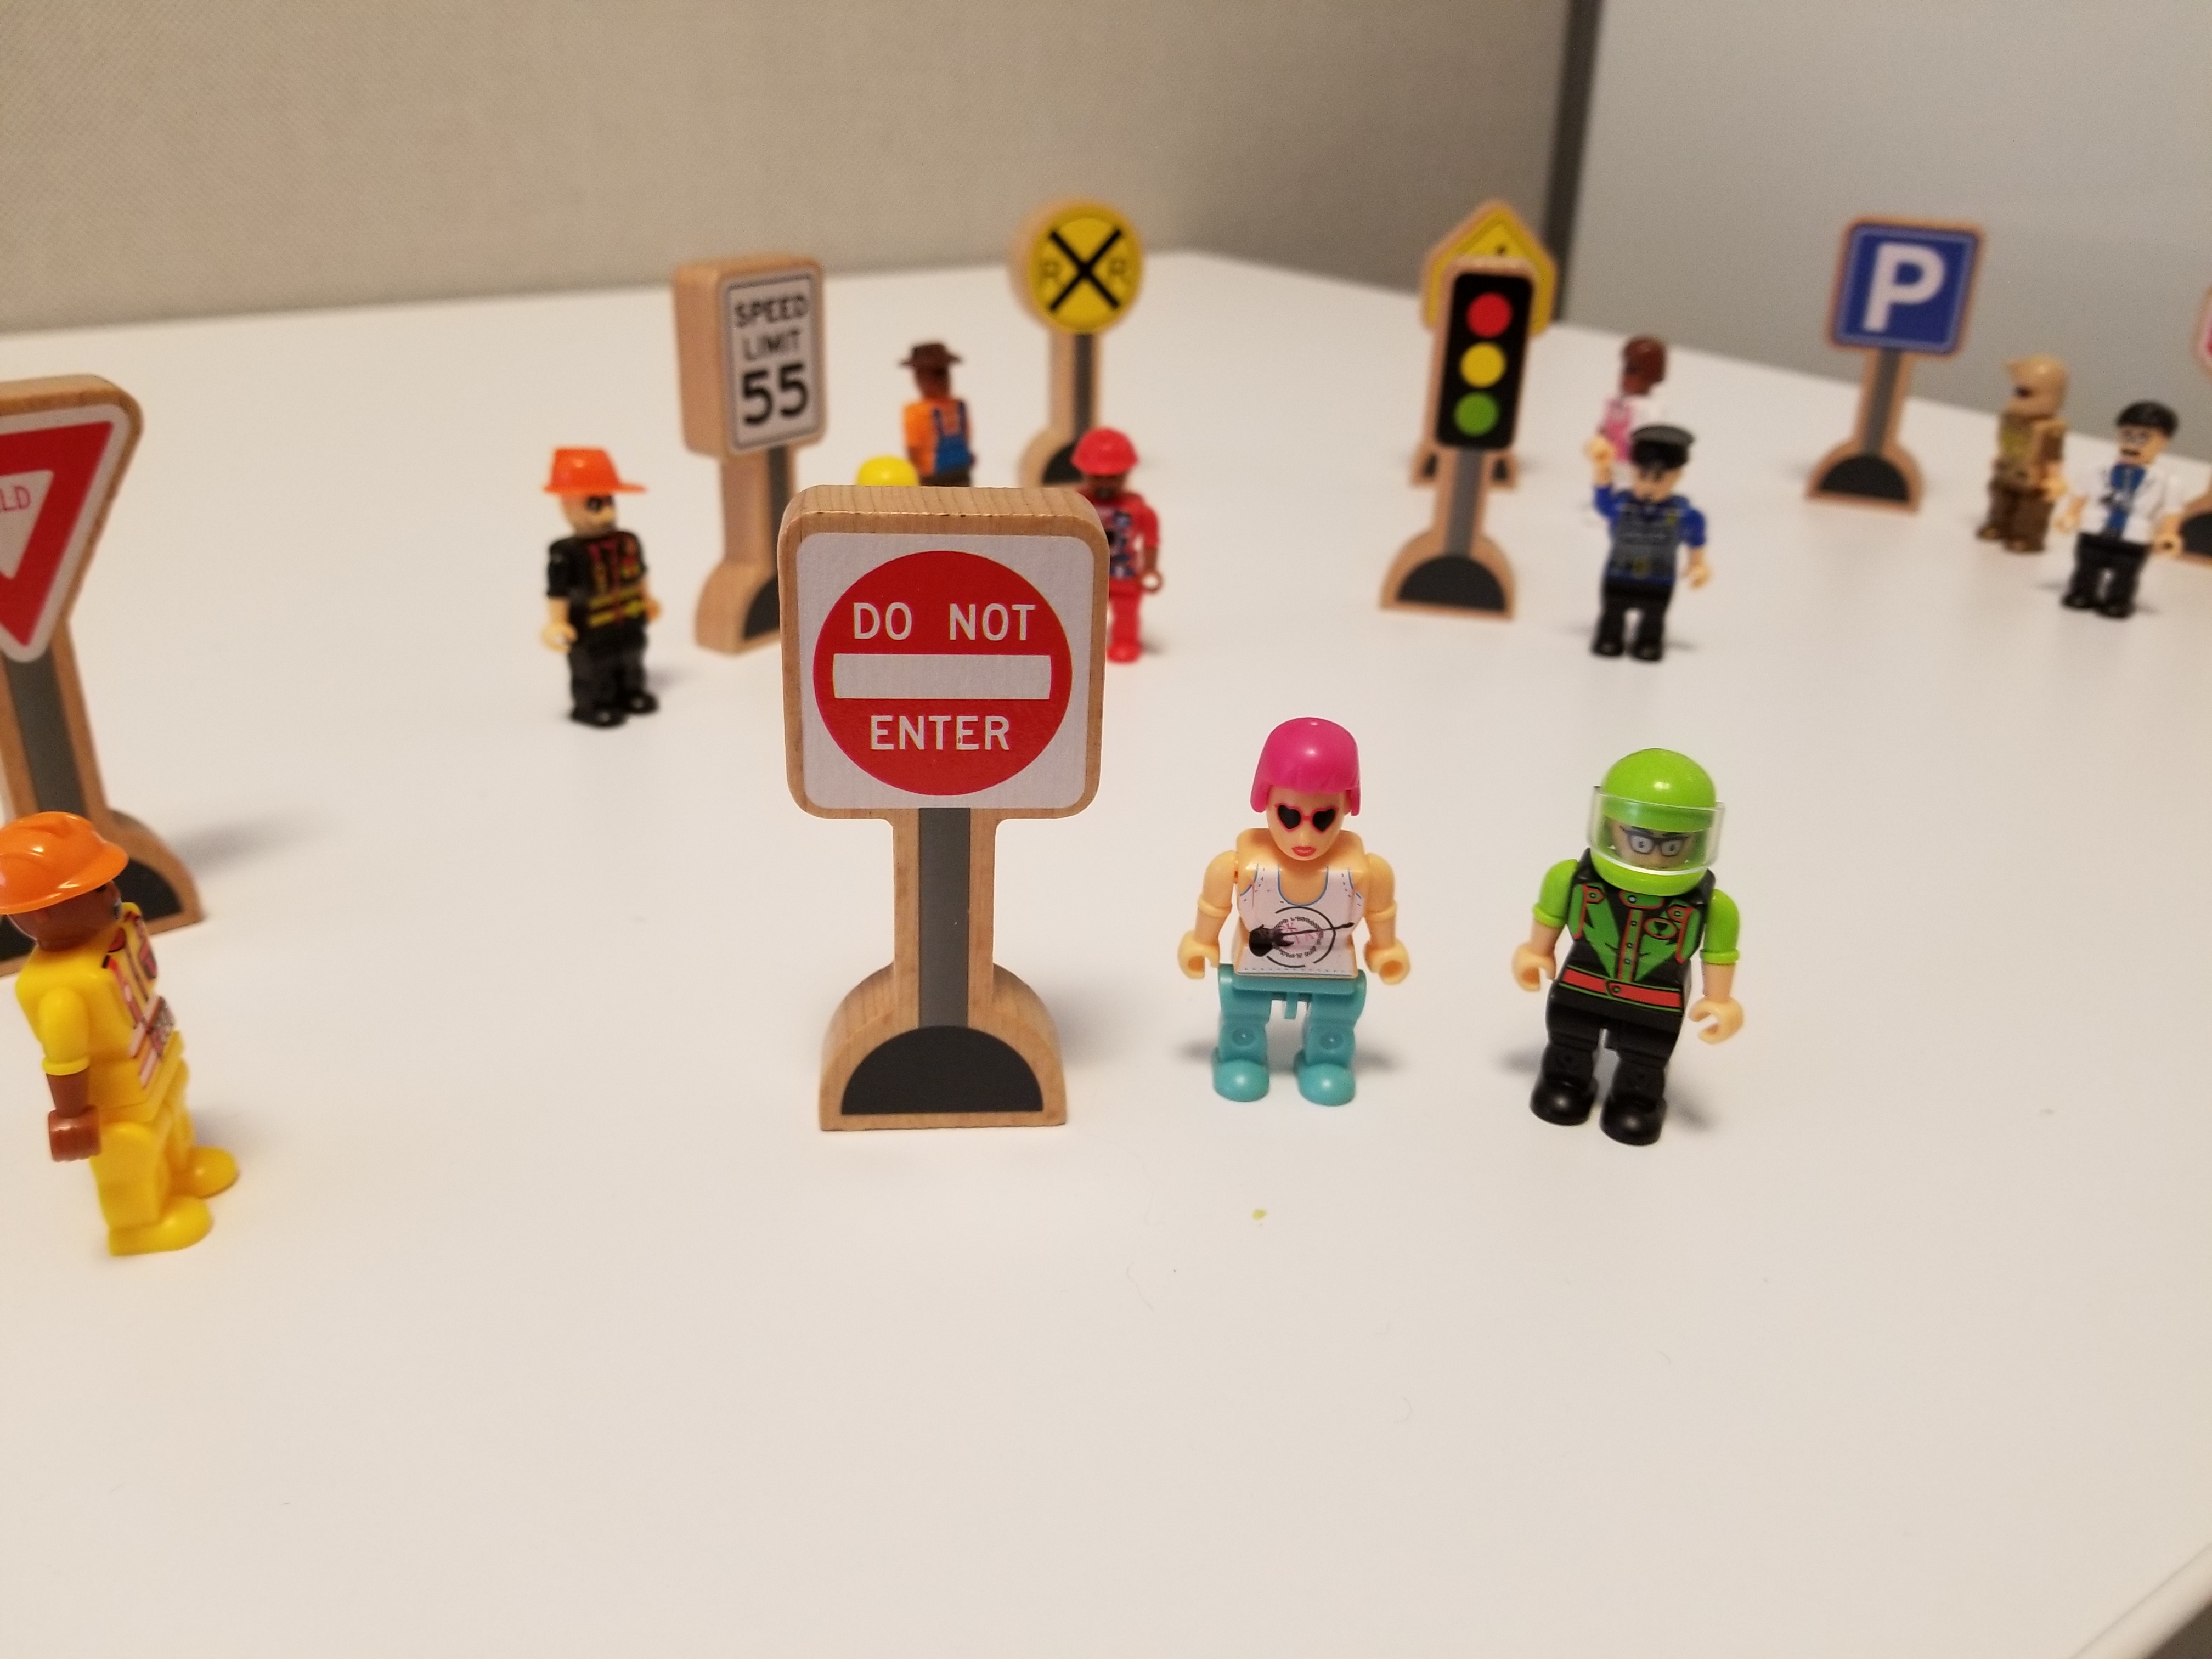Do not enter: (754, 473, 1131, 1151)
Parking: (1827, 185, 1991, 552)
Railroad Crossing: (1006, 188, 1171, 379)
Speed limit 55: (668, 240, 846, 462)
Traffic Light: (1412, 247, 1544, 637)
person: (1511, 695, 1768, 1158), (12, 800, 249, 1302), (1199, 686, 1388, 1151), (493, 449, 679, 749), (2066, 370, 2189, 662), (1585, 420, 1722, 681), (1057, 418, 1193, 646), (1994, 337, 2086, 580), (883, 315, 1000, 490)
